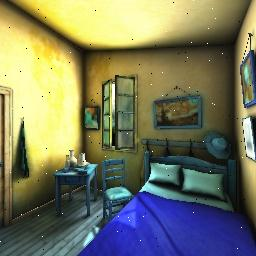bed: (91, 140, 255, 256)
chair: (99, 158, 139, 217)
table: (52, 154, 104, 216)
